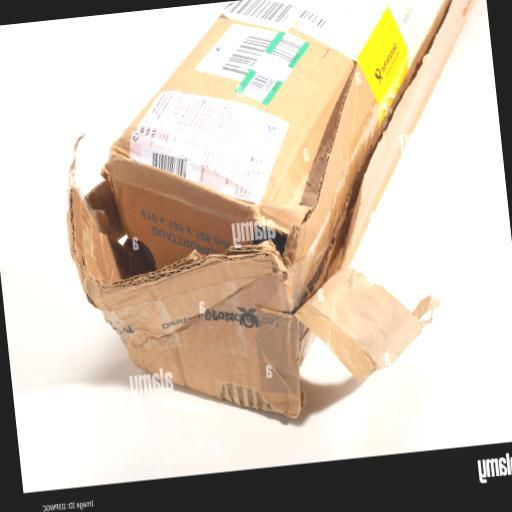torn: (26, 0, 503, 453)
